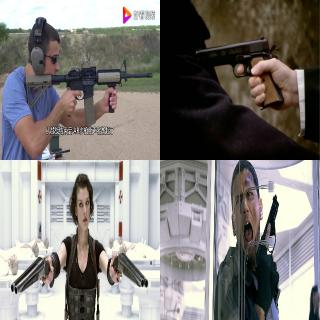gun: (23, 58, 156, 126), (192, 34, 285, 110), (252, 189, 287, 303), (8, 250, 56, 306), (108, 241, 149, 301)
